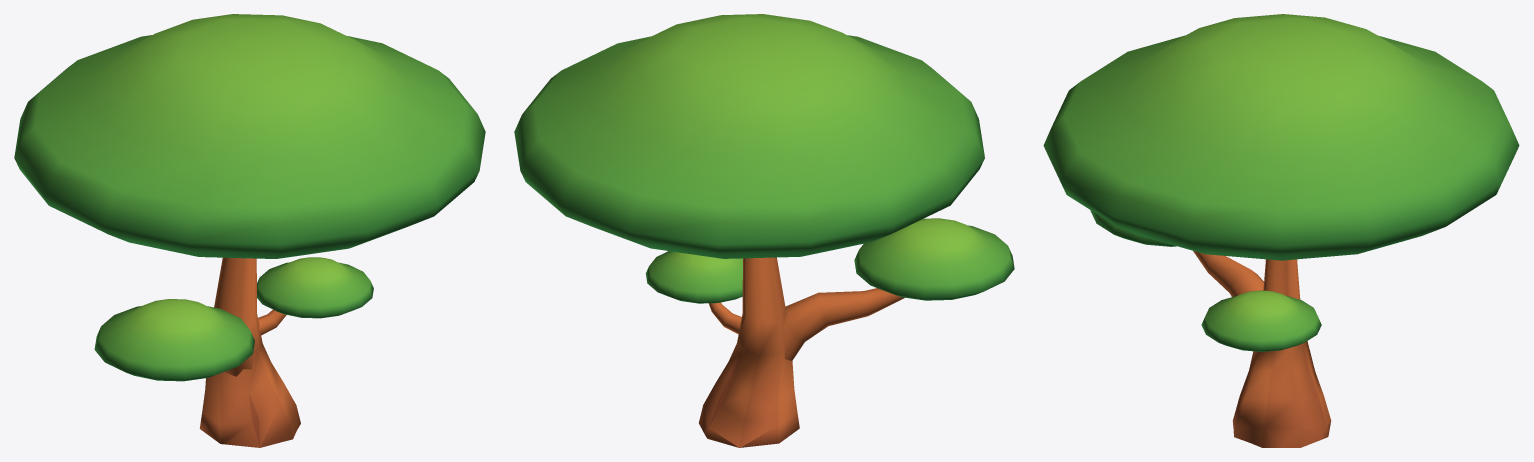
File: tree_3_b_trunk.glb
3 renders of one model, left to right at view 1: azimuth 30°, elevation 25°; view 2: azimuth 150°, elevation 25°; view 3: azimuth 270°, elevation 25°, orthographic.
Parts seen in each view (by area): view 1: tree_3_b_trunk; view 2: tree_3_b_trunk; view 3: tree_3_b_trunk.
Part boxes in pixels (<box>): tree_3_b_trunk: <box>14,14,485,447</box>; tree_3_b_trunk: <box>514,14,1014,447</box>; tree_3_b_trunk: <box>1043,14,1519,447</box>.
Bounding box in the file's own units: 5.57 × 4.97 × 5.57.
Materials: 2 (2 with a texture image).
